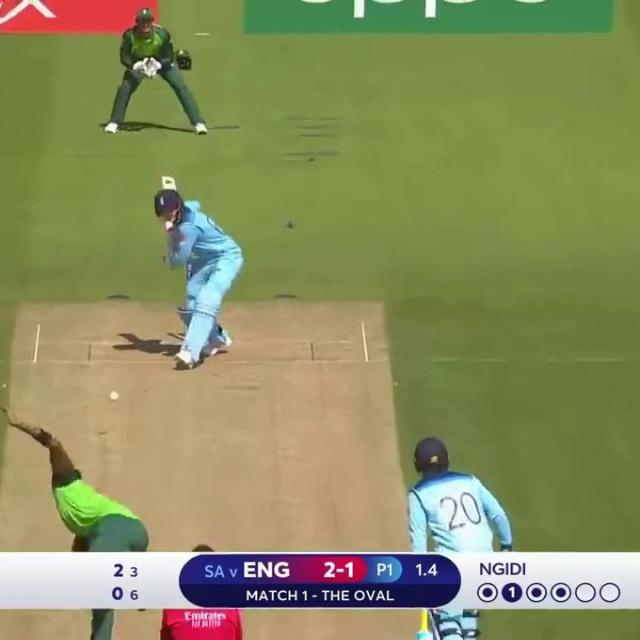bat: (413, 629, 434, 640), (161, 175, 177, 189)
